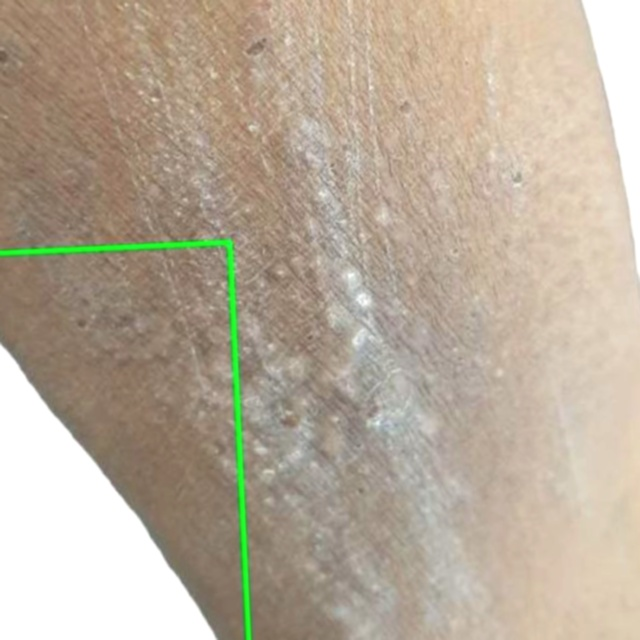Eczema: (0, 242, 248, 639)
